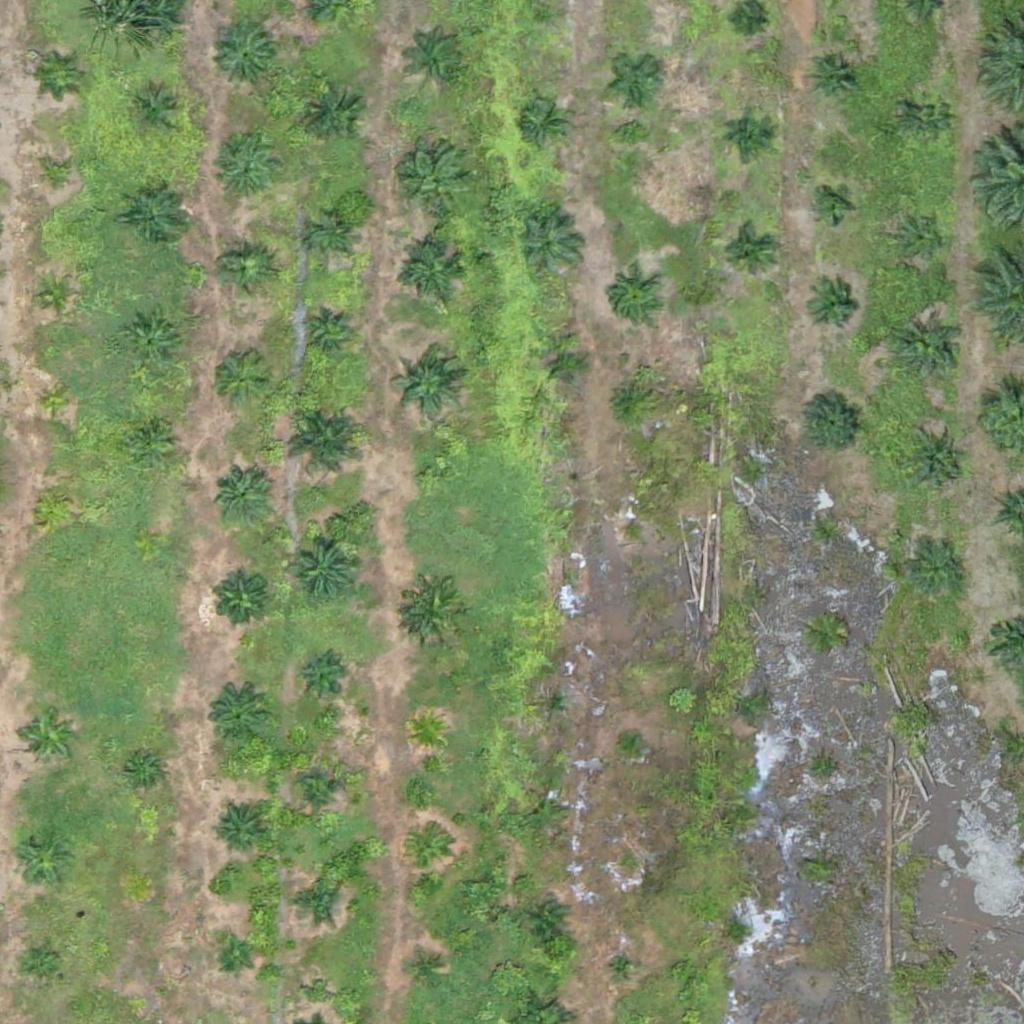Kelapa_Sawit: (282, 398, 369, 486), (390, 349, 465, 425), (285, 529, 360, 604), (10, 829, 73, 892), (208, 347, 271, 410), (213, 140, 276, 203), (211, 464, 274, 527), (905, 430, 968, 493), (519, 213, 582, 276), (800, 389, 863, 452), (402, 581, 465, 644), (126, 183, 189, 246), (17, 706, 80, 769), (122, 313, 185, 376), (212, 24, 274, 87), (205, 684, 267, 747), (209, 567, 271, 630), (899, 320, 961, 383), (302, 84, 364, 147), (402, 241, 464, 304), (404, 151, 467, 213), (410, 29, 472, 92), (211, 805, 261, 856), (722, 226, 772, 277), (806, 280, 856, 331), (288, 875, 338, 926), (131, 87, 181, 138), (540, 339, 590, 390), (602, 374, 652, 425), (220, 246, 270, 296), (292, 655, 342, 705), (912, 549, 962, 599), (904, 92, 954, 142), (724, 109, 774, 159), (612, 54, 662, 104), (519, 97, 569, 147), (607, 272, 657, 322), (125, 414, 175, 464), (893, 211, 943, 261), (809, 51, 859, 101), (293, 769, 343, 819), (301, 307, 350, 358), (45, 57, 83, 95), (813, 186, 851, 224), (408, 712, 446, 750), (606, 949, 644, 987), (530, 901, 568, 939), (410, 834, 448, 872), (409, 954, 447, 992), (526, 792, 564, 830), (38, 158, 76, 196), (36, 277, 74, 315), (38, 384, 76, 422), (34, 484, 72, 522), (125, 755, 163, 793), (311, 216, 348, 254), (535, 686, 572, 724), (216, 938, 253, 976), (24, 944, 61, 981), (734, 6, 759, 31), (620, 726, 645, 751), (617, 517, 642, 542), (418, 464, 443, 489)
